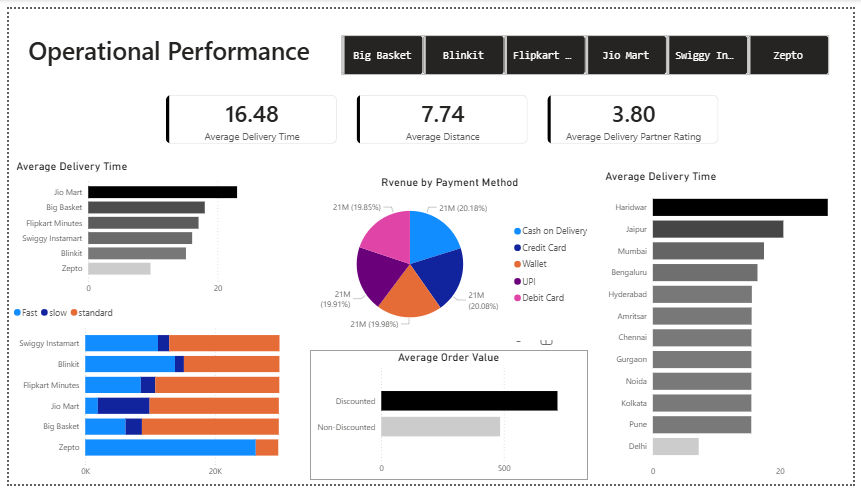

Layout of this report page (visuals, bound fields, positions):
{"tool":"powerbi","page":{"name":"Page 2","canvas":[1280,720],"ordinal":1},"visuals":[{"type":"cardVisual","fields":{"Data":["All measures.avg_delivery_time","All measures.avg_distance","All measures.avg_deliveryP_rating"]},"box":[114,128,1094,92],"z":0},{"type":"barChart","title":"Average Delivery Time","fields":{"Y":["All measures.avg_delivery_time"],"Category":["qc_orders.company"]},"box":[6,228,420,214],"z":1000},{"type":"barChart","fields":{"Category":["qc_orders.company"],"Series":["qc_orders.delivery_speed"],"Y":["CountNonNull(qc_orders.delivery_speed)"]},"box":[1.8,438.9,423.6,280],"z":2000},{"type":"clusteredBarChart","title":"Average Delivery Time","fields":{"Category":["qc_orders.city"],"Y":["All measures.avg_delivery_time"]},"box":[898,242,378,476],"z":3000},{"type":"clusteredBarChart","title":"Average Order Value ","fields":{"Category":["qc_orders.Discount_Status"],"Y":["All measures.avg_order_value"]},"box":[456,516,420,198],"z":4000},{"type":"pieChart","title":"Rvenue by Payment Method","fields":{"Category":["qc_orders.payment_method"],"Y":["All measures.total_revenue"]},"box":[446,246,446,250],"z":5000},{"type":"textbox","box":[24,32,454,72],"z":6000},{"type":"advancedSlicerVisual","fields":{"Values":["qc_orders.company"]},"box":[496,38,752,70],"z":7000}]}

Visuals, with their boxes in screenshot pixels (x1, y1, x2, y2), scaled from the page's 1280x720 canvas onto the 861x492 screenshot:
cardVisual - All measures.avg_delivery_time x All measures.avg_distance: 77, 87, 813, 150
"Average Delivery Time" barChart: 4, 156, 287, 302
barChart - qc_orders.company x qc_orders.delivery_speed: 1, 300, 286, 491
"Average Delivery Time" clusteredBarChart: 604, 165, 858, 491
"Average Order Value " clusteredBarChart: 307, 353, 589, 488
"Rvenue by Payment Method" pieChart: 300, 168, 600, 339
textbox: 16, 22, 322, 71
advancedSlicerVisual - qc_orders.company: 334, 26, 839, 74
